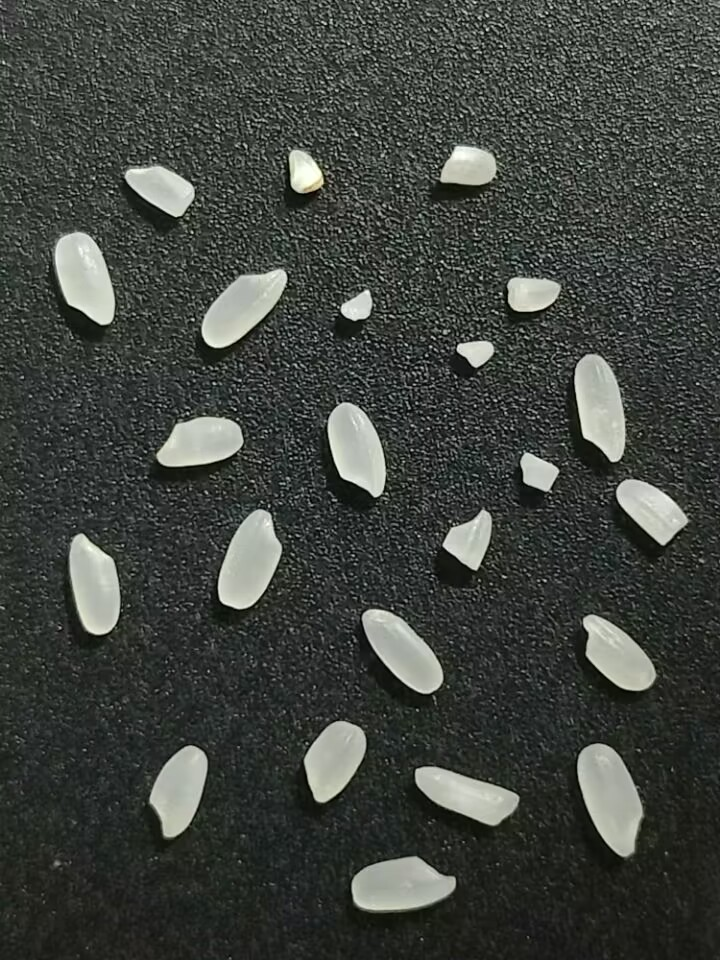broken: (411, 761, 521, 828), (581, 610, 659, 694), (615, 477, 689, 546), (118, 163, 202, 221), (439, 504, 497, 574), (437, 144, 498, 189), (514, 448, 563, 494), (503, 275, 562, 313), (450, 332, 498, 370), (340, 287, 373, 320)
rice: (357, 603, 452, 697), (209, 503, 289, 614), (578, 742, 645, 858), (199, 266, 288, 351), (572, 350, 629, 463), (53, 233, 118, 328), (326, 399, 386, 500), (347, 857, 457, 911), (147, 745, 208, 839), (67, 532, 122, 635), (302, 719, 367, 803), (155, 418, 244, 468), (286, 147, 324, 195)
